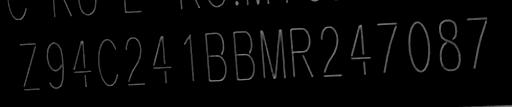letter: (464, 12, 496, 69), (375, 17, 405, 76), (404, 18, 436, 73), (258, 24, 288, 81), (288, 24, 318, 79), (316, 24, 346, 79), (347, 21, 375, 78), (12, 40, 42, 93), (202, 26, 230, 81), (174, 29, 202, 84), (436, 16, 462, 73), (230, 25, 256, 80), (148, 30, 174, 85), (96, 36, 122, 89), (70, 38, 96, 89), (43, 40, 69, 91), (122, 34, 146, 87)
